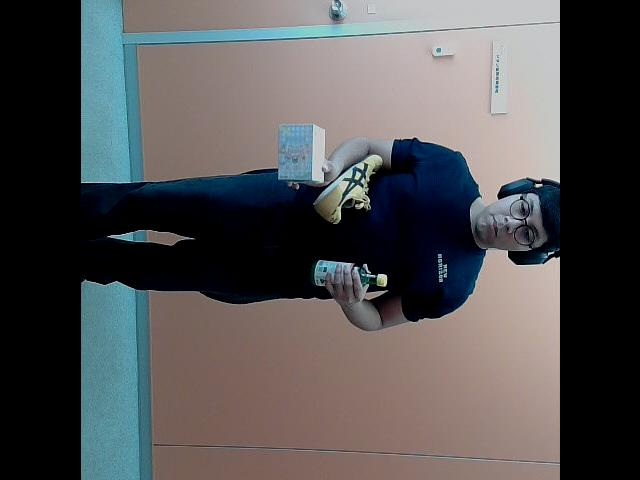Blind_box: (277, 124, 328, 190)
Lemon_sapporo: (306, 256, 386, 294)
Shoes: (312, 150, 384, 223)
